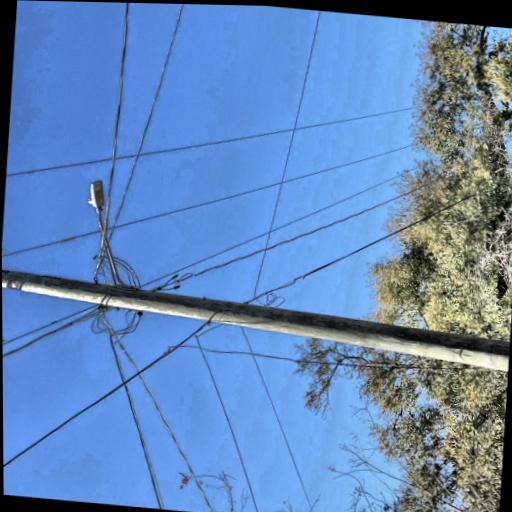pole: (16, 45, 139, 505)
street light: (95, 211, 200, 286)
